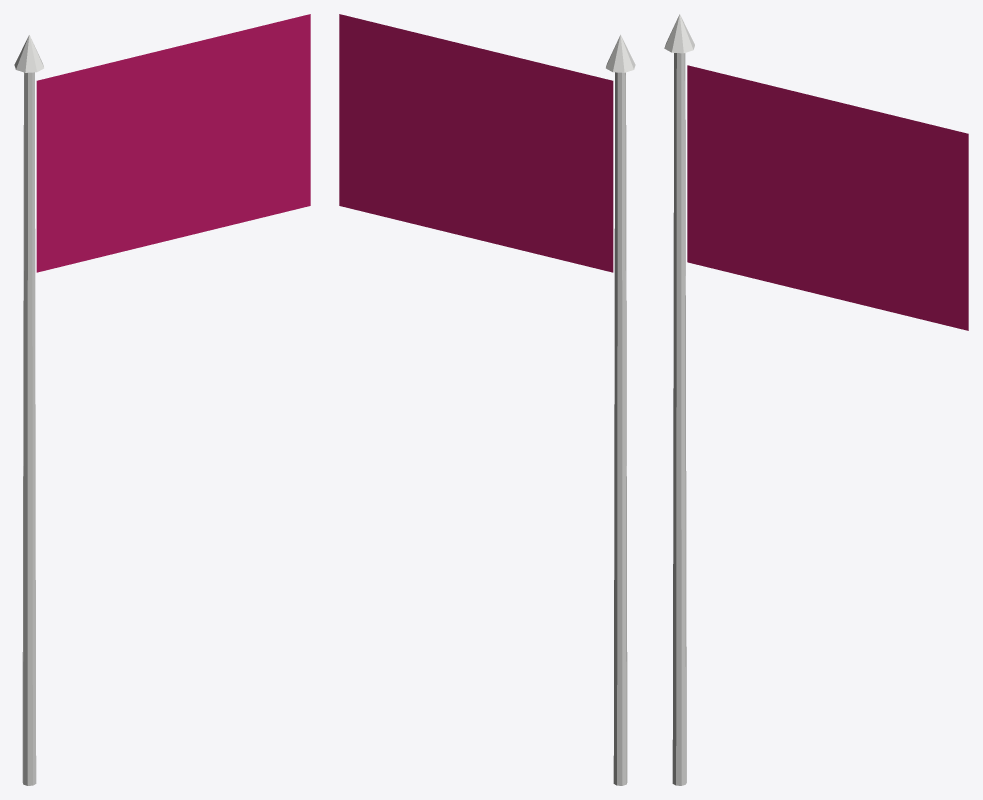
Rendered from SM_RimFlag.fbx.
3 renders of one model, left to right at view 1: azimuth 30°, elevation 25°; view 2: azimuth 150°, elevation 25°; view 3: azimuth 330°, elevation 25°, orthographic. The views are drawn at different scales.
Parts seen in each view (by area): view 1: SM_RimFlag; view 2: SM_RimFlag; view 3: SM_RimFlag.
Part boxes in pixels (left/top/right/bottom): SM_RimFlag: left=14, top=14, right=310, bottom=785; SM_RimFlag: left=339, top=14, right=635, bottom=785; SM_RimFlag: left=664, top=14, right=968, bottom=785.
Size of the model in its own units: 482 by 44 by 1170.
